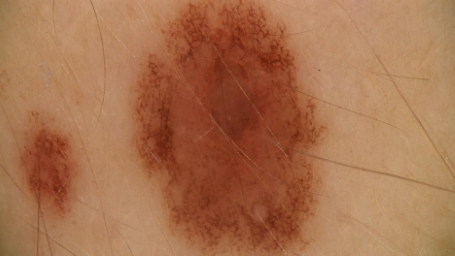melanoma: (137, 1, 320, 256), (23, 128, 76, 213)
